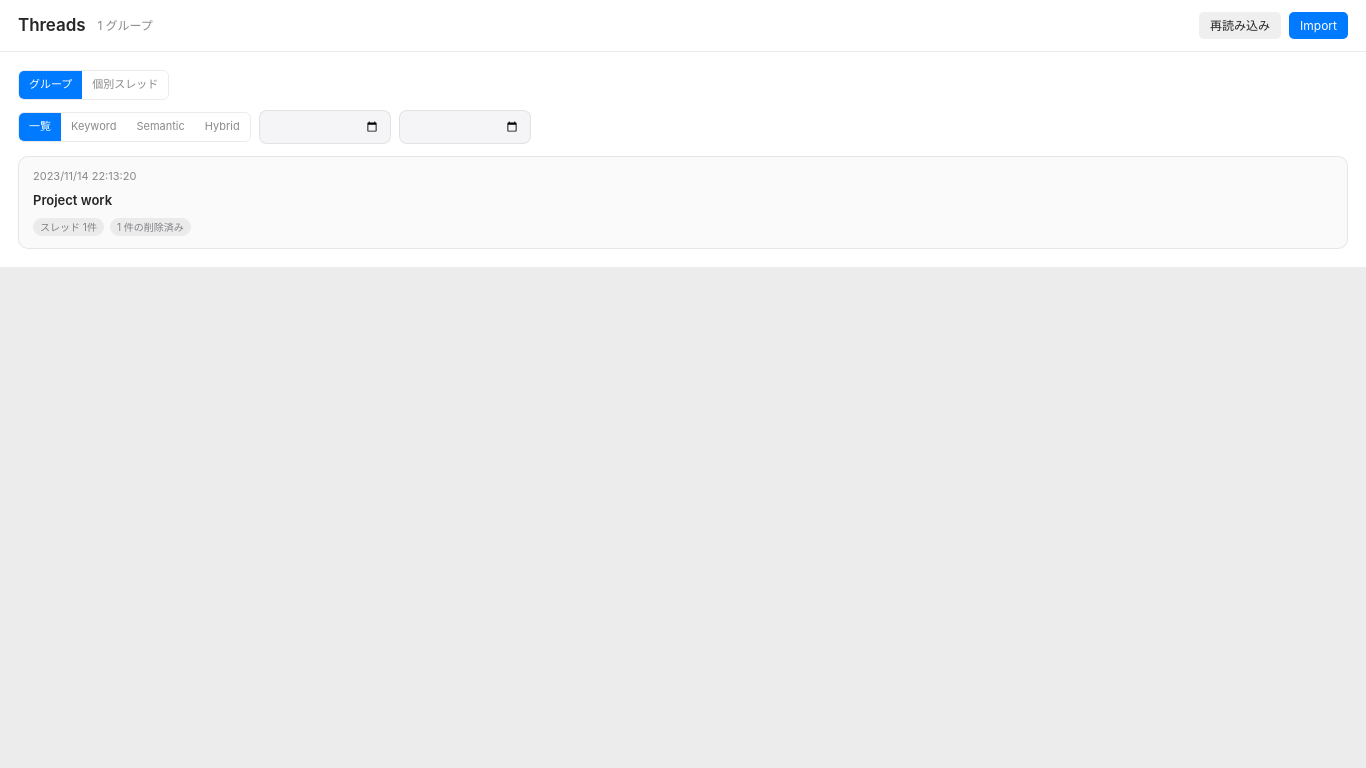
Test case: Threads group view › shows roots and confirmed group-internal relations in the thread tree
Click the button "2023/11/14 22:13:20 Project work スレッド 1件 1 件の削除済み".
click(85, 176)  # box [18, 156, 1348, 249]
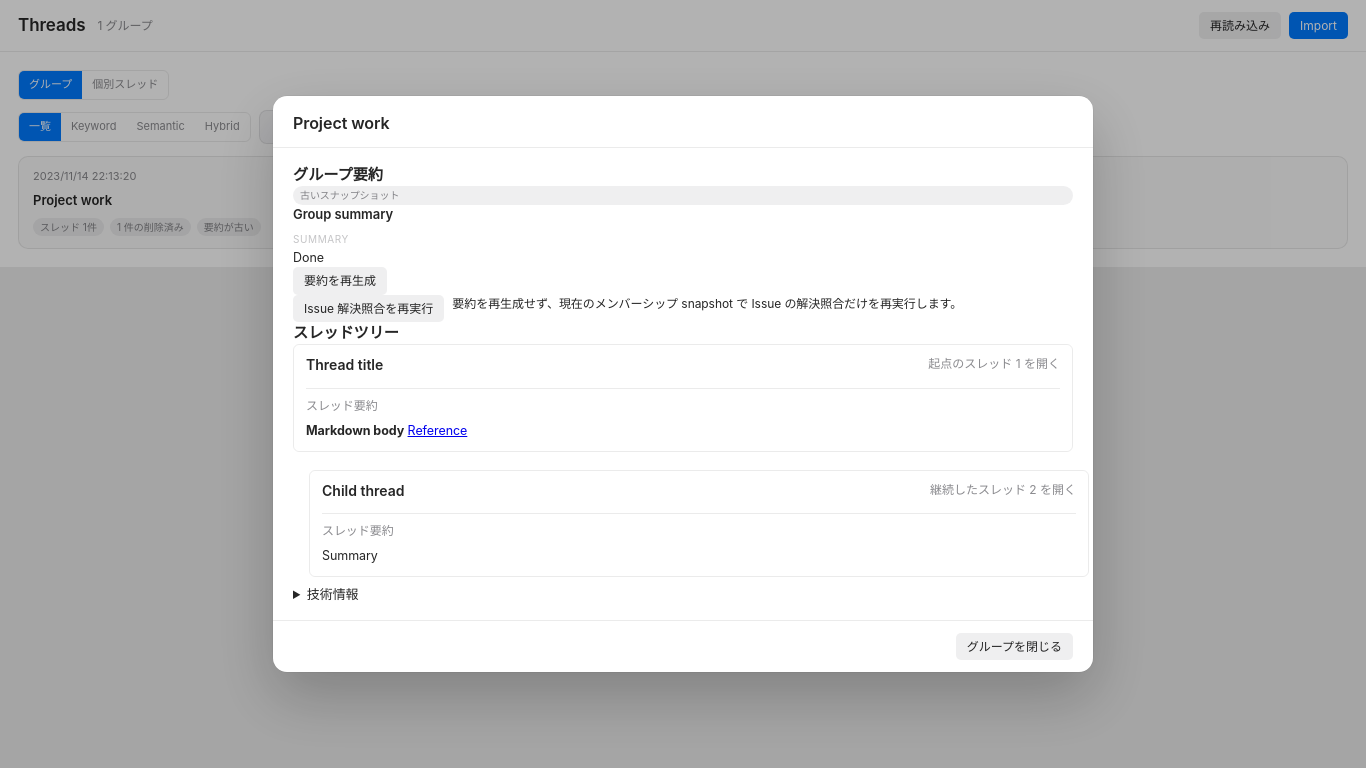
Check: the button "Thread title 起点のスレッド 1 を開く" is shown, box [306, 355, 1060, 380]
Check: the button "Child thread 継続したスレッド 2 を開く" is shown, box [322, 480, 1076, 505]
